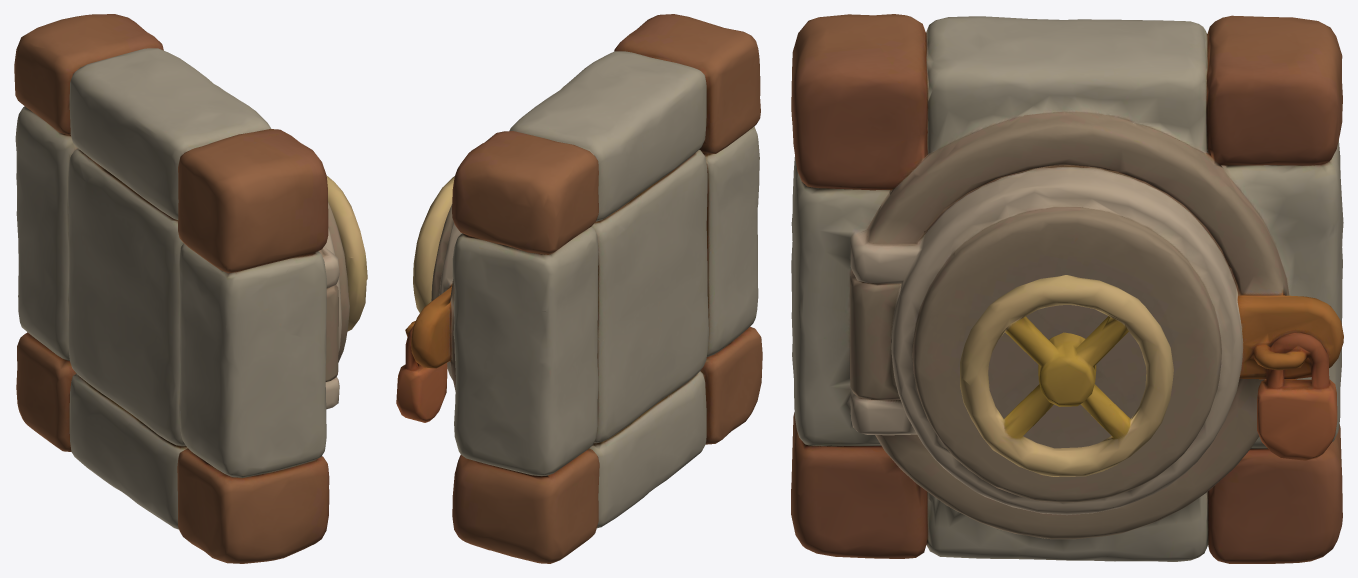
The model's file is vault-door.glb.
The picture shows the model from 3 angles, left to right: view 1: azimuth 30°, elevation 25°; view 2: azimuth 150°, elevation 25°; view 3: azimuth 270°, elevation 25°; orthographic projection. The views are drawn at different scales.
Visible parts, largest first — view 1: tripo_node_2db2fff1-a085-4107-82bf-c561bb79c8f6; view 2: tripo_node_2db2fff1-a085-4107-82bf-c561bb79c8f6; view 3: tripo_node_2db2fff1-a085-4107-82bf-c561bb79c8f6.
Boxes of the visible parts, x1,y1,x2,y2 form: tripo_node_2db2fff1-a085-4107-82bf-c561bb79c8f6: [14, 14, 367, 563]; tripo_node_2db2fff1-a085-4107-82bf-c561bb79c8f6: [396, 14, 762, 563]; tripo_node_2db2fff1-a085-4107-82bf-c561bb79c8f6: [791, 14, 1343, 563].
Size of the model in its own units: 0.5656 by 1 by 0.9979.
Materials: 1 (1 with a texture image).
